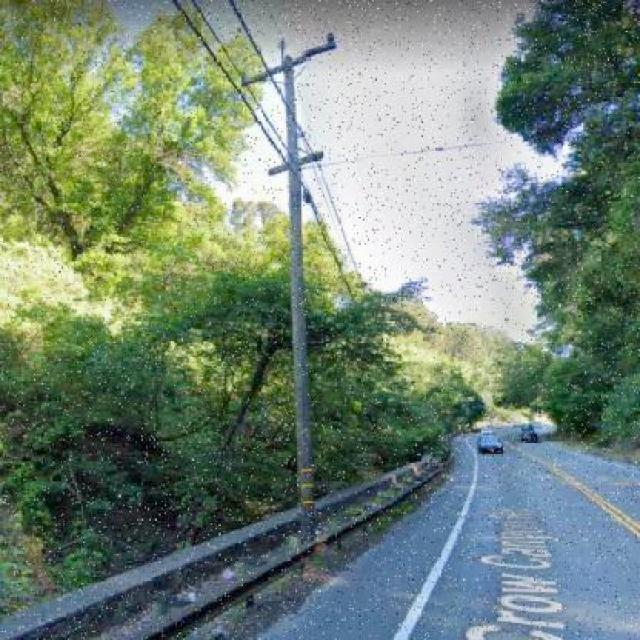pole: (280, 40, 317, 554)
wire: (171, 0, 355, 300), (227, 0, 361, 274), (190, 0, 331, 210)
